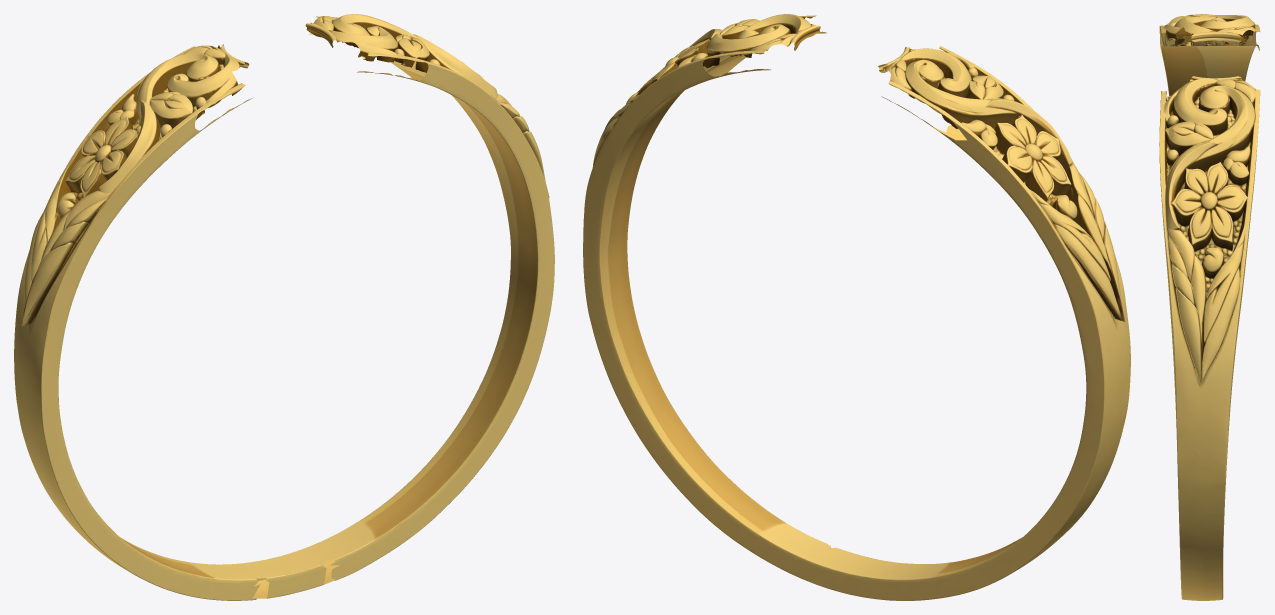
File: nodiamond2.glb
3 renders of one model, left to right at view 1: azimuth 30°, elevation 25°; view 2: azimuth 150°, elevation 25°; view 3: azimuth 270°, elevation 25°, orthographic. The views are drawn at different scales.
Size of the model in its own units: 1.9 by 1.87 by 0.3282.
1 material, 1 textured.
